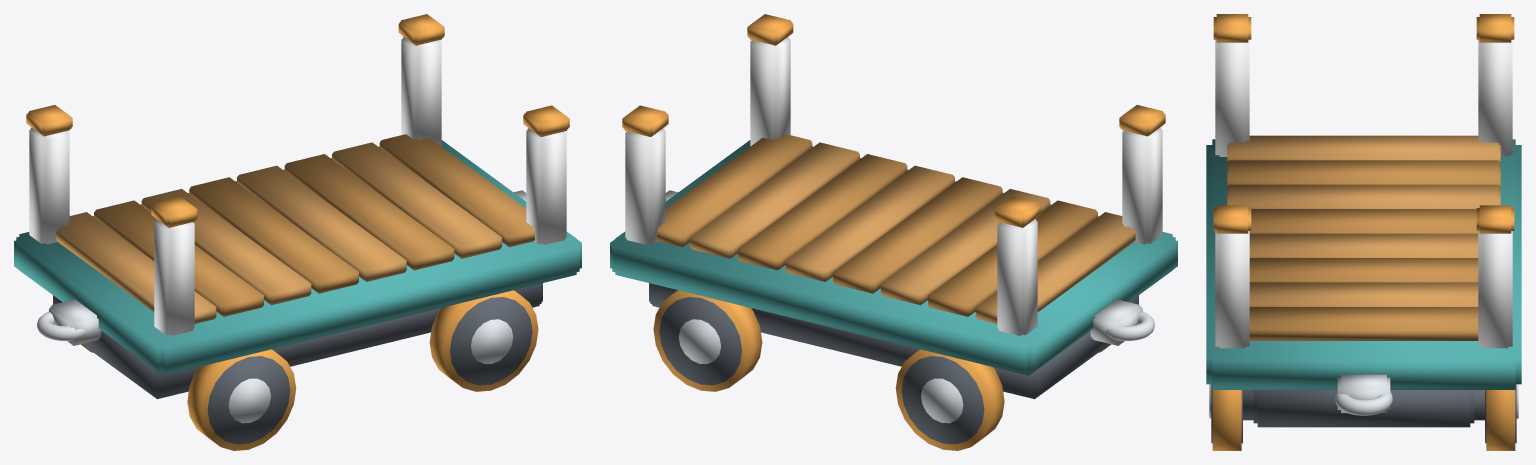
The model's file is carriage.glb.
3 views of the same model, side by side, from view 1: azimuth 30°, elevation 25°; view 2: azimuth 150°, elevation 25°; view 3: azimuth 270°, elevation 25° (orthographic). The views are drawn at different scales.
Parts seen in each view (by area): view 1: ChassisFrame, Plank_5, Plank_3, Plank_4, Plank_6, Undercarriage, Plank_7, Plank_2, Plank_0, Plank_1, Stake_-0.43_-0.25, Stake_0.43_-0.25 (+14 smaller); view 2: ChassisFrame, Plank_5, Plank_3, Plank_4, Plank_6, Undercarriage, Plank_7, Plank_2, Plank_0, Plank_1, Stake_-0.43_0.25, Stake_0.43_0.25 (+14 smaller); view 3: ChassisFrame, Plank_7, Undercarriage, Plank_1, Plank_0, Plank_2, Plank_6, Plank_4, Plank_5, Plank_3, Stake_0.43_0.25, Stake_0.43_-0.25 (+11 smaller).
Part boxes in pixels (<box>): ChassisFrame: <box>14,140,581,375</box>; Plank_5: <box>284,154,454,270</box>; Plank_3: <box>189,177,358,293</box>; Plank_4: <box>237,165,406,281</box>; Plank_6: <box>332,142,501,258</box>; Undercarriage: <box>53,283,542,399</box>; Plank_7: <box>379,134,534,247</box>; Plank_2: <box>141,189,311,305</box>; Plank_0: <box>56,212,216,323</box>; Plank_1: <box>94,200,263,316</box>; Stake_-0.43_-0.25: <box>154,219,194,335</box>; Stake_0.43_-0.25: <box>526,128,566,244</box>; ChassisFrame: <box>610,140,1177,375</box>; Plank_5: <box>737,154,907,270</box>; Plank_3: <box>833,177,1002,293</box>; Plank_4: <box>785,165,954,281</box>; Plank_6: <box>690,142,859,258</box>; Undercarriage: <box>649,283,1138,399</box>; Plank_7: <box>657,134,812,247</box>; Plank_2: <box>880,189,1050,305</box>; Plank_0: <box>975,212,1135,323</box>; Plank_1: <box>928,200,1097,316</box>; Stake_-0.43_0.25: <box>997,219,1037,335</box>; Stake_0.43_0.25: <box>625,128,665,244</box>; ChassisFrame: <box>1206,139,1521,389</box>; Plank_7: <box>1249,307,1478,340</box>; Undercarriage: <box>1253,390,1474,427</box>; Plank_1: <box>1227,160,1500,186</box>; Plank_0: <box>1227,135,1500,161</box>; Plank_2: <box>1227,184,1500,208</box>; Plank_6: <box>1249,282,1478,306</box>; Plank_4: <box>1249,233,1478,257</box>; Plank_5: <box>1249,258,1478,282</box>; Plank_3: <box>1249,209,1478,233</box>; Stake_0.43_0.25: <box>1478,231,1512,348</box>; Stake_0.43_-0.25: <box>1215,231,1249,348</box>.
Size of the model in its own units: 1.19 by 0.561 by 0.6.
